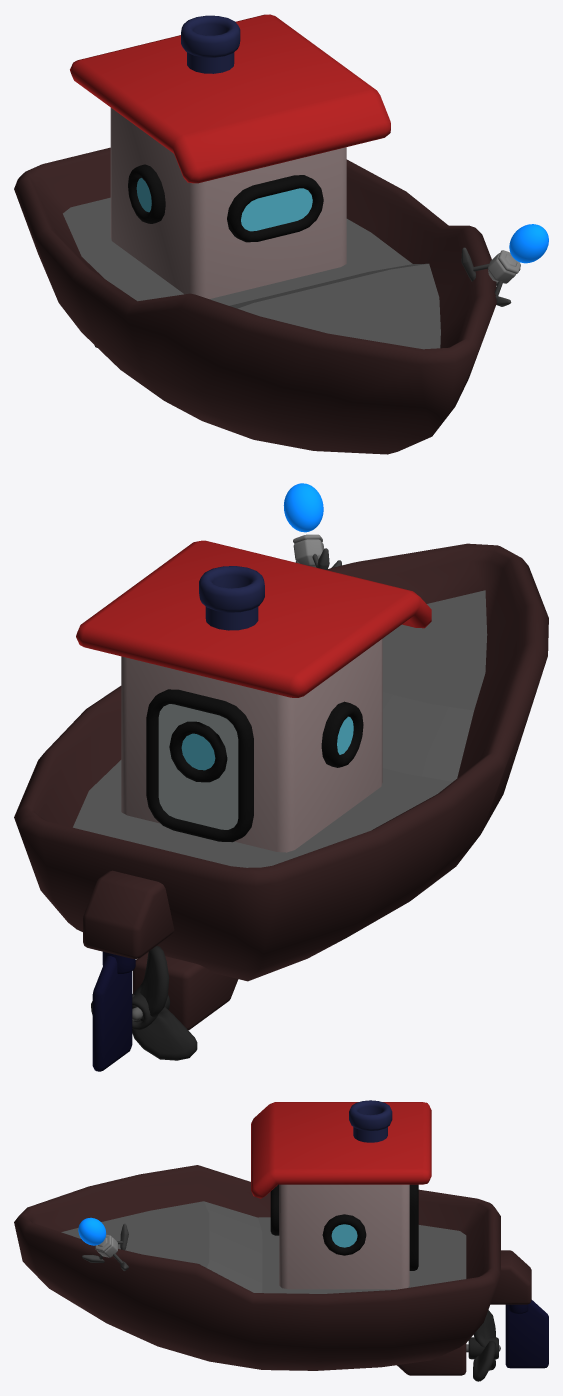
The model's file is LastLuna_Model_Object_Fishing_Boat.fbx.
3 views of the same model, one above another, from view 1: azimuth 30°, elevation 25°; view 2: azimuth 150°, elevation 25°; view 3: azimuth 270°, elevation 25° (orthographic). The views are drawn at different scales.
Visible parts, largest first — view 1: Boat001, Boat_Room001, Portal001, Drill_Body001; view 2: Boat001, Boat_Room001, Boat_Door001, Rudder_Base001, Rudder001, Propeller001, Propeller_Base, Portal001; view 3: Boat001, Boat_Room001, Rudder001, Rudder_Base001, Propeller001, Propeller_Base, Boat_Door001, Portal001.
Boxes of the visible parts, <box> form: Boat001: <box>14,147,496,454</box>; Boat_Room001: <box>70,14,390,299</box>; Portal001: <box>509,224,548,263</box>; Drill_Body001: <box>488,253,517,283</box>; Boat001: <box>14,543,548,981</box>; Boat_Room001: <box>76,540,431,852</box>; Boat_Door001: <box>146,689,253,842</box>; Rudder_Base001: <box>83,870,174,958</box>; Rudder001: <box>92,951,135,1071</box>; Propeller001: <box>91,946,197,1060</box>; Propeller_Base: <box>132,952,238,1030</box>; Portal001: <box>283,483,323,532</box>; Boat001: <box>14,1165,500,1370</box>; Boat_Room001: <box>251,1100,431,1289</box>; Rudder001: <box>505,1300,548,1368</box>; Rudder_Base001: <box>490,1250,531,1304</box>; Propeller001: <box>468,1310,498,1381</box>; Propeller_Base: <box>397,1343,500,1375</box>; Boat_Door001: <box>409,1184,418,1270</box>; Portal001: <box>78,1217,106,1245</box>.
Size of the model in its own units: 815 by 854 by 1538.
